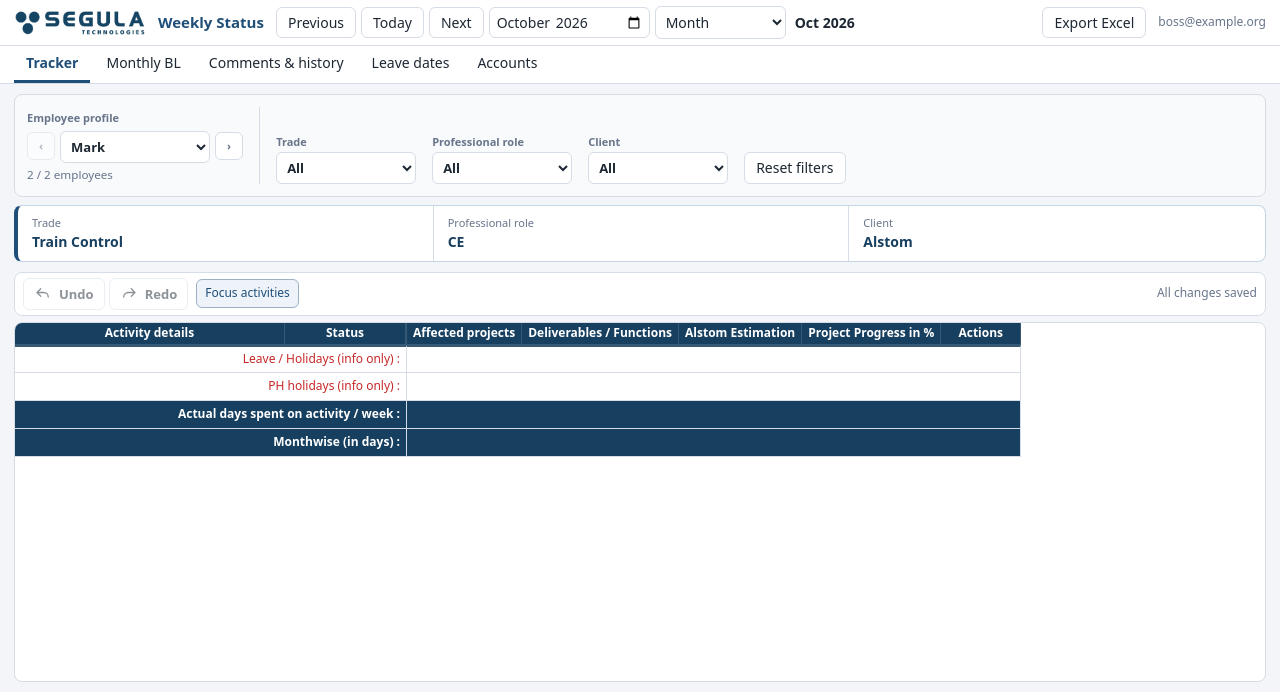
Test: combines affiliation filters, clears stale trackers on no match, and resets filters
Select "Train System" in the dropdown named "Filter Trade" at (346,168), box [276, 152, 416, 184]
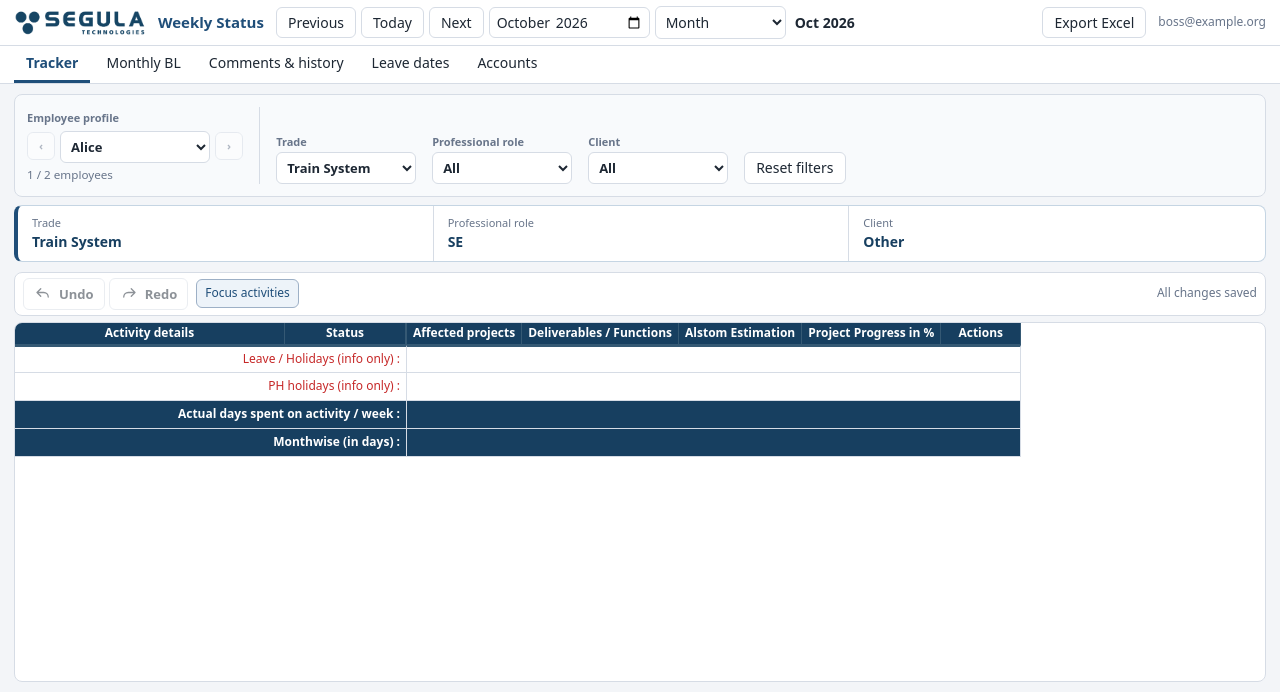
expect the text "1 / 2 employees" is shown: met, box [27, 167, 113, 182]
expect the dropdown named "Employee" shows "Alice": met, box [60, 131, 210, 163]
Select "Alstom" in the dropdown named "Filter Client" at (658,168), box [588, 152, 728, 184]
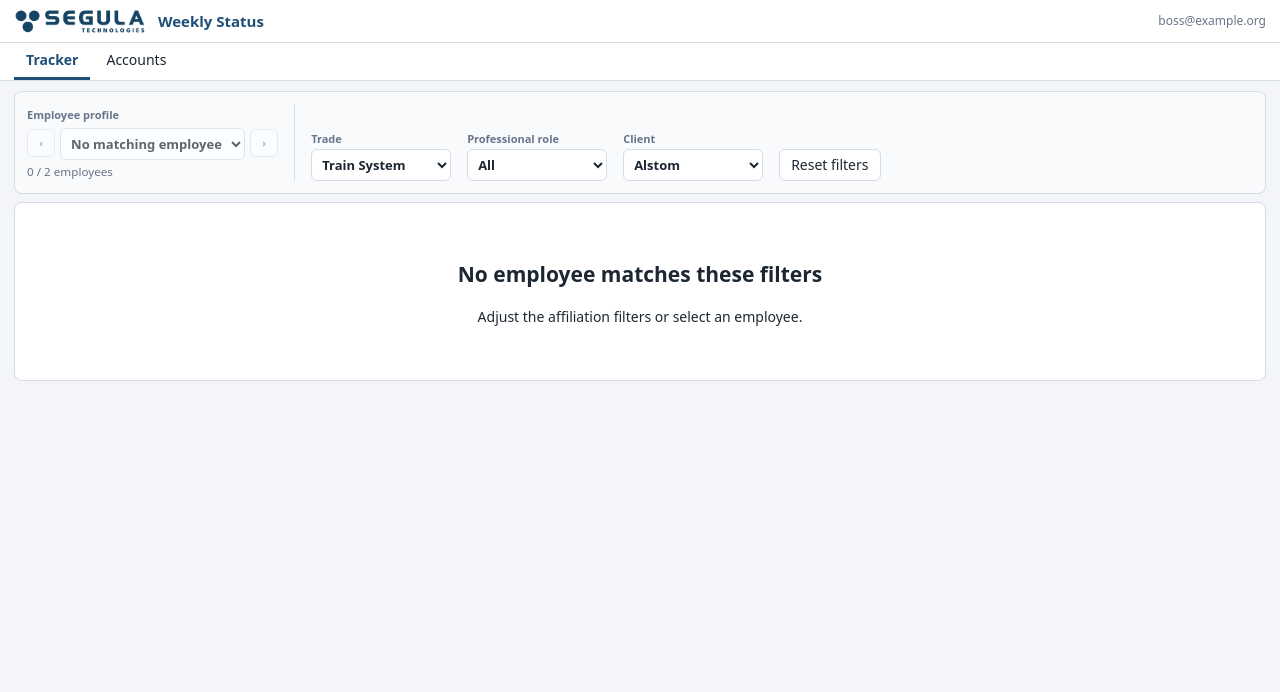
expect the heading "No employee matches these filters" is shown: met, box [458, 260, 822, 288]
Click the button "Reset filters".
click(830, 165)  # box [779, 149, 880, 180]
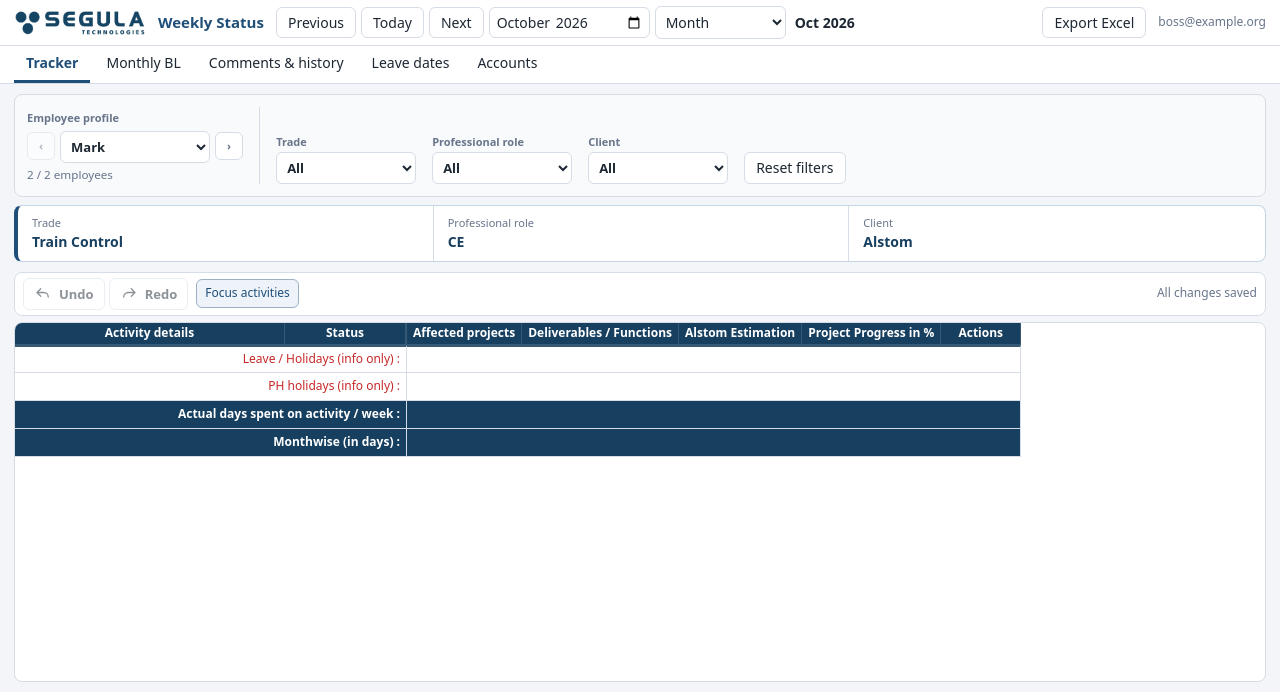
expect the text "2 / 2 employees" is shown: met, box [27, 167, 113, 182]
expect the dropdown named "Employee" shows "Mark": met, box [60, 131, 210, 163]
Select "SE" in the dropdown named "Filter Professional role" at (502,168), box [432, 152, 572, 184]
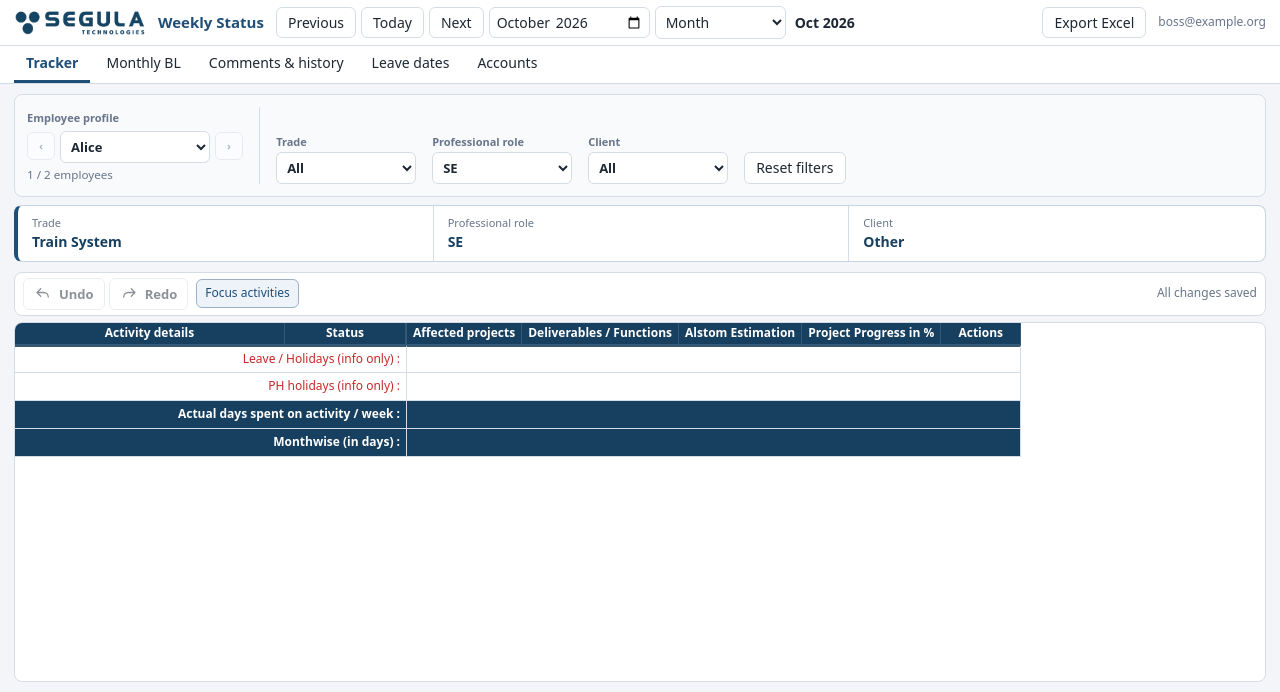
expect the dropdown named "Employee" shows "Alice": met, box [60, 131, 210, 163]
